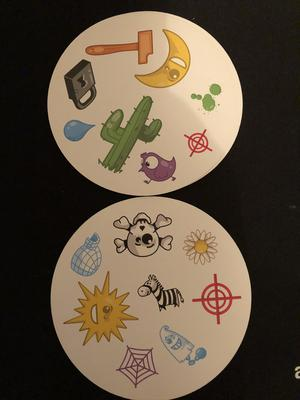cactus: (95, 95, 163, 175)
cadena: (63, 57, 98, 111)
cible: (191, 272, 243, 327), (179, 127, 217, 158)
fantome: (157, 324, 208, 367)
fleur: (181, 227, 220, 268)
goutte: (61, 117, 98, 143)
igloo: (68, 231, 105, 280)
lune: (133, 27, 192, 90)
marteau: (85, 29, 154, 64)
oiseau: (136, 149, 179, 185)
soleil: (61, 270, 141, 348)
tache: (188, 81, 224, 114)
tete_mort: (109, 210, 176, 260)
toile: (115, 343, 160, 389)
zebre: (137, 271, 185, 315)
